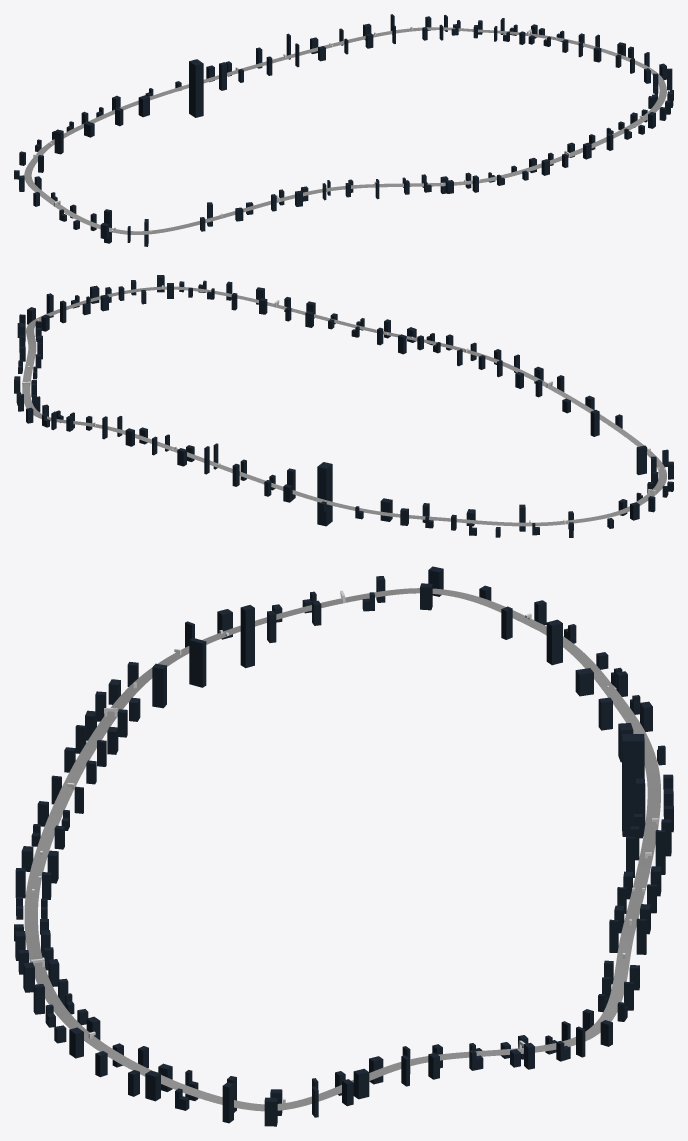
Rendered from PathAnimation.FBX.
3 views of the same model, one above another, from view 1: azimuth 30°, elevation 25°; view 2: azimuth 150°, elevation 25°; view 3: azimuth 270°, elevation 25° (orthographic). The views are drawn at different scales.
Visible parts, largest first — view 1: Line004, Box180; view 2: Line004, Box180; view 3: Line004, Box180, Box230, Box229.
Part boxes in pixels (left/top/right/bottom): Line004: left=24, top=27, right=666, bottom=234; Box180: left=189, top=59, right=203, bottom=117; Line004: left=22, top=286, right=666, bottom=526; Box180: left=317, top=462, right=332, bottom=526; Line004: left=24, top=588, right=660, bottom=1111; Box180: left=622, top=734, right=644, bottom=836; Box230: left=240, top=605, right=254, bottom=668; Box229: left=189, top=638, right=206, bottom=687.
Bounding box in the file's own units: 9367 × 819 × 4888.
